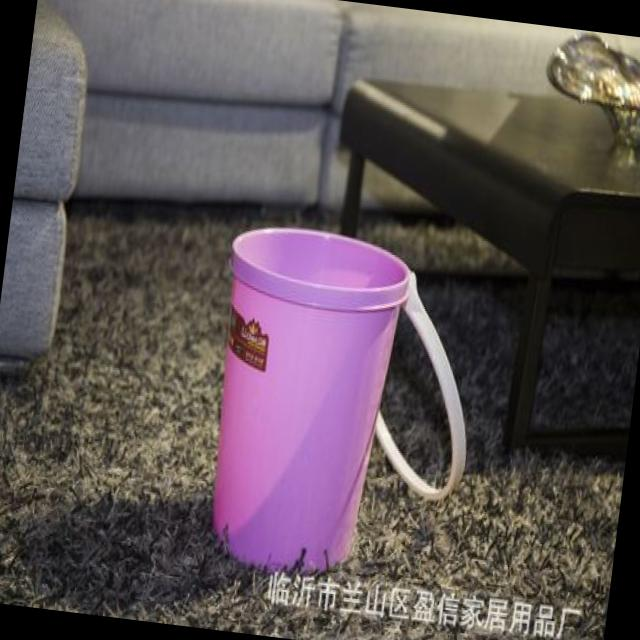dustbin: (188, 213, 494, 602)
